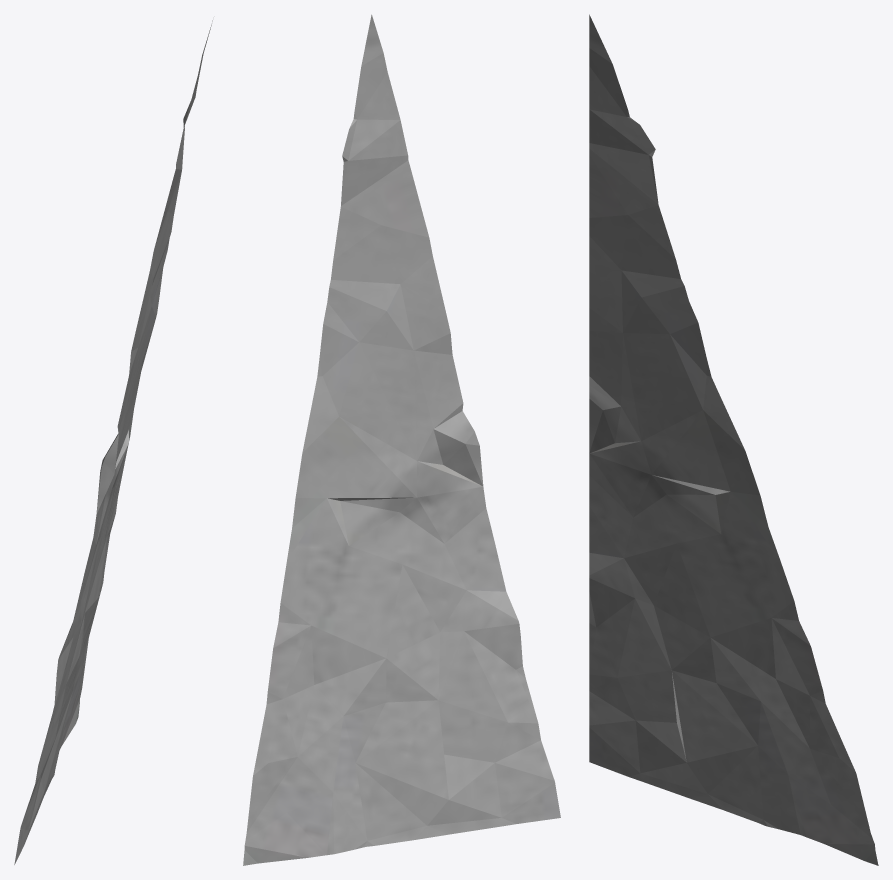
3 renders of one model, left to right at view 1: azimuth 30°, elevation 25°; view 2: azimuth 150°, elevation 25°; view 3: azimuth 270°, elevation 25°, orthographic. The views are drawn at different scales.
Bounding box in the file's own units: 0.1557 × 0.5956 × 0.1834.
1 material, 1 textured.
